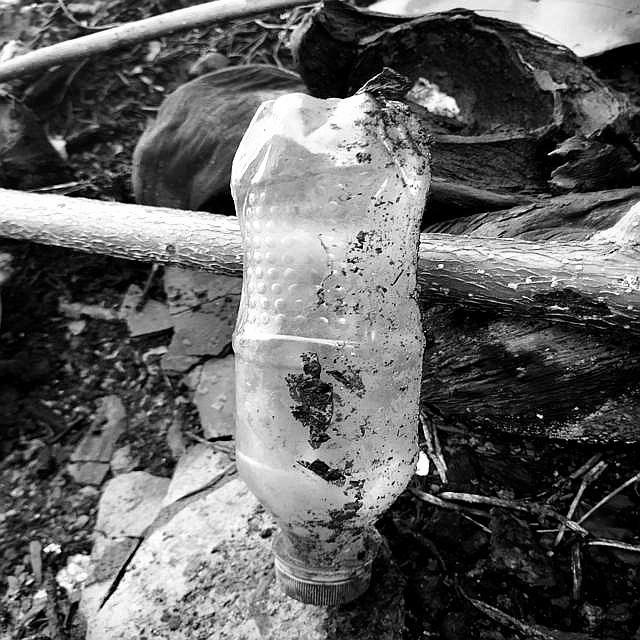Non-biodegradable: (230, 92, 433, 610)
